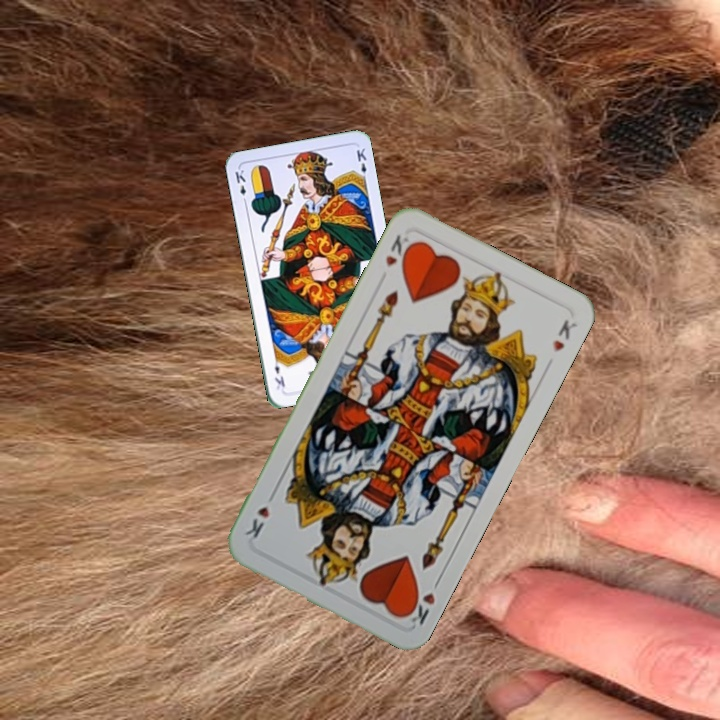EK: (231, 166, 249, 206)
HK: (400, 573, 444, 627), (381, 230, 417, 270)
